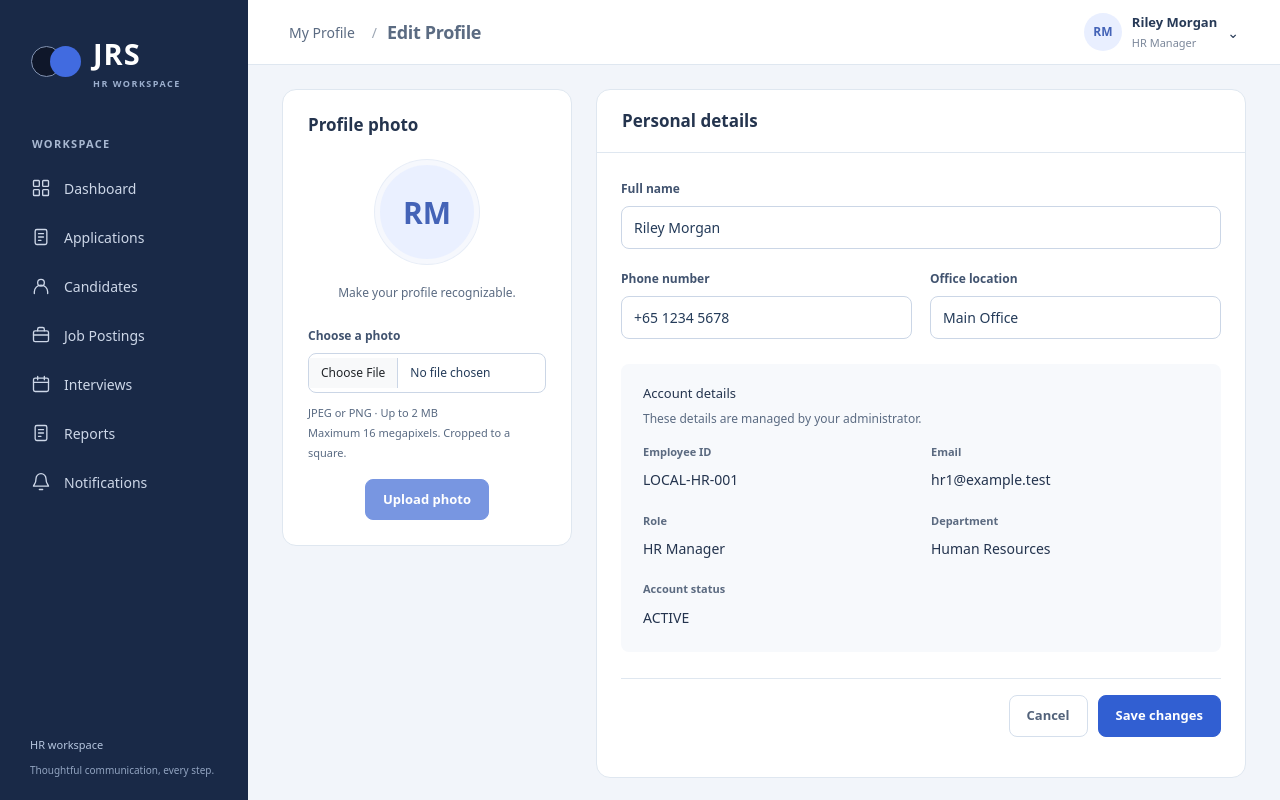
Scenario: authentication and navigation › includes a clickable My Profile parent when editing a profile
Click the link "My Profile": (322, 32) [289, 22, 355, 42]
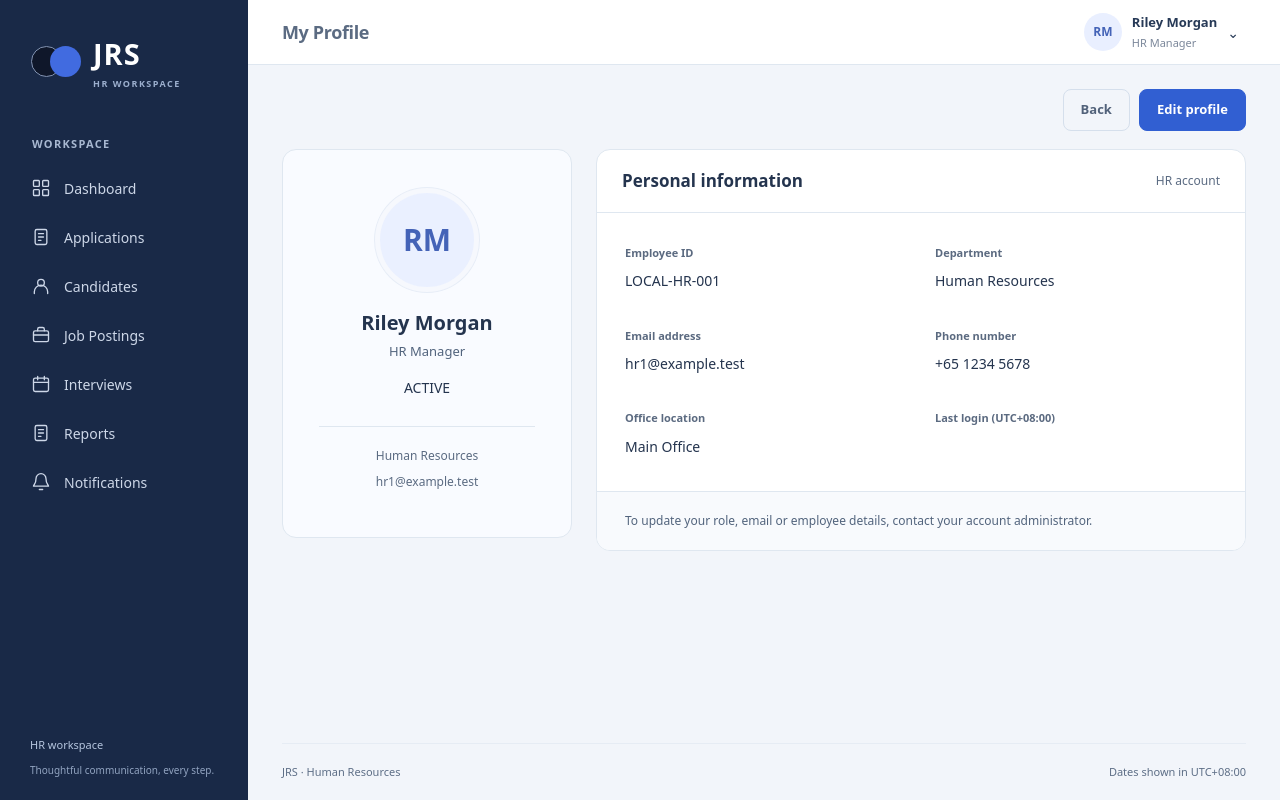
expect the heading "My Profile" is shown: met, box [282, 20, 369, 44]
